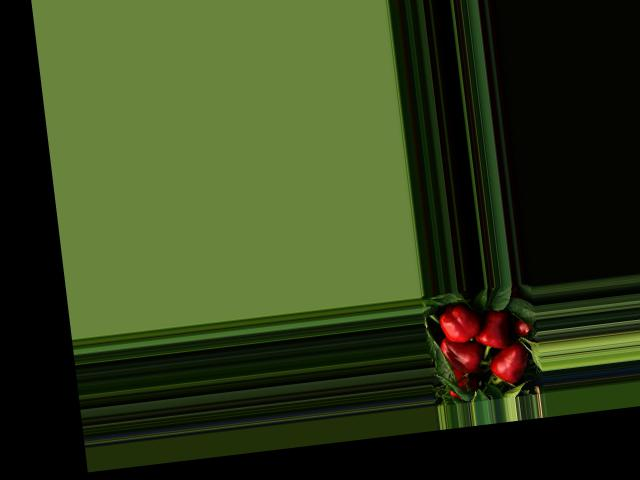bell_pepper: (434, 301, 491, 345)
